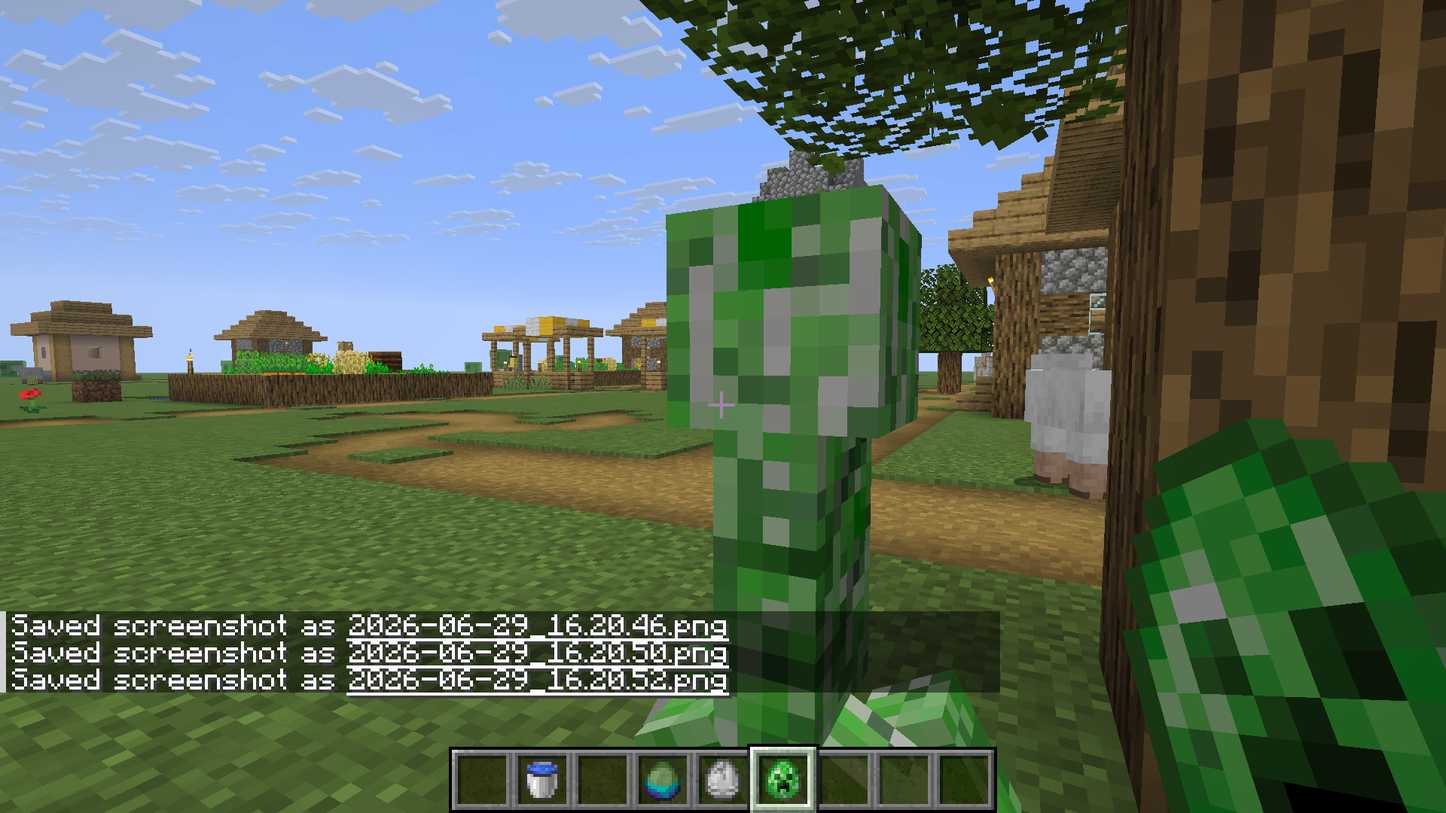Sheep: (1020, 341, 1119, 507)
creeper: (663, 217, 958, 603)
